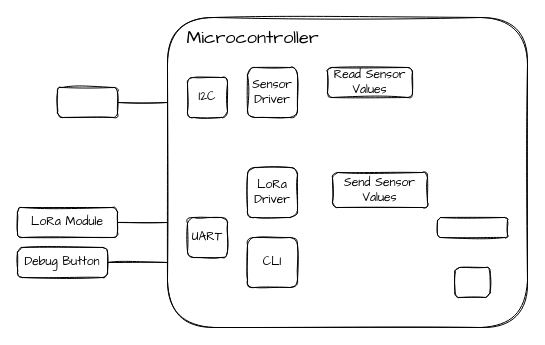
Image size: 545x345. Some labels were removed from this diagram. Here are the shapes that lost their labels. From the top down, the box of each, then its label:
(56, 86, 118, 118): Sensors
(436, 216, 508, 238): Store data
(454, 266, 490, 298): Sleep
